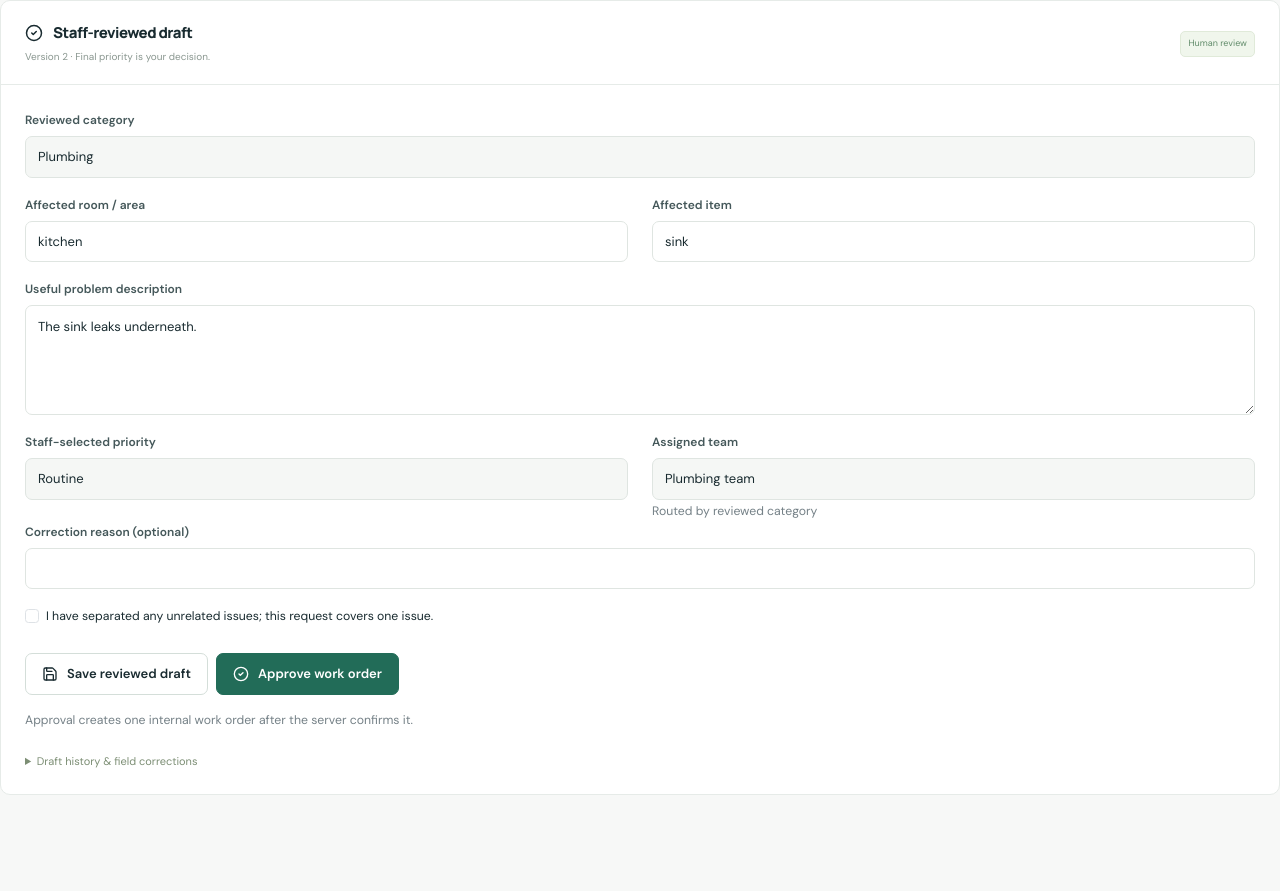
Scenario: review workspace › shows a conflict and preserves unsaved corrections
This screenshot has width=1280, height=891.
Type " corner" into the field labelled "Affected room / area" at {"x": 326, "y": 241}, box [25,220,628,262]
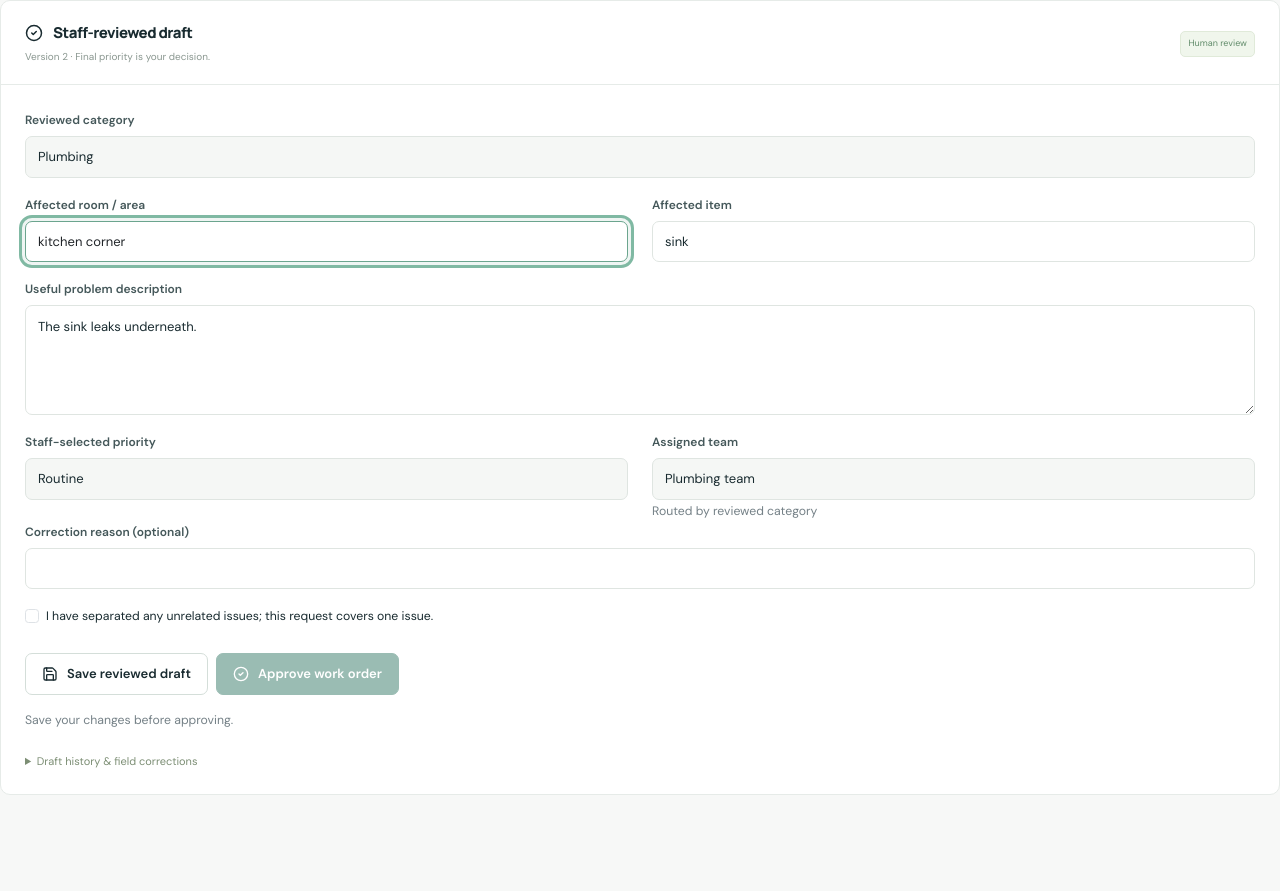
Click the button "Save reviewed draft" at {"x": 116, "y": 674}, box [25,653,208,695]
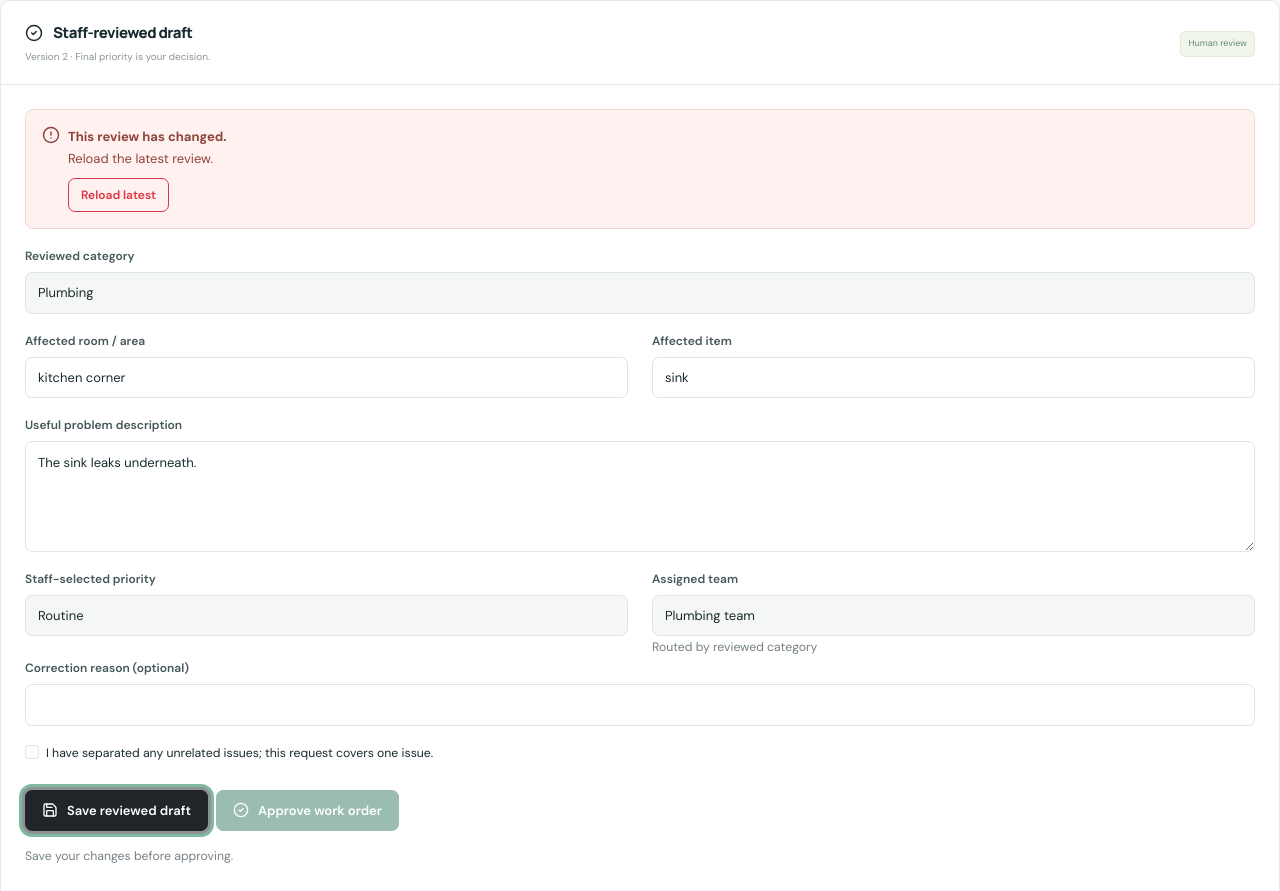
Expected: the field labelled "Affected room / area" holds "kitchen corner", [25,357,628,398]
Expected: the text "This review has changed." is shown, [68,128,227,145]
